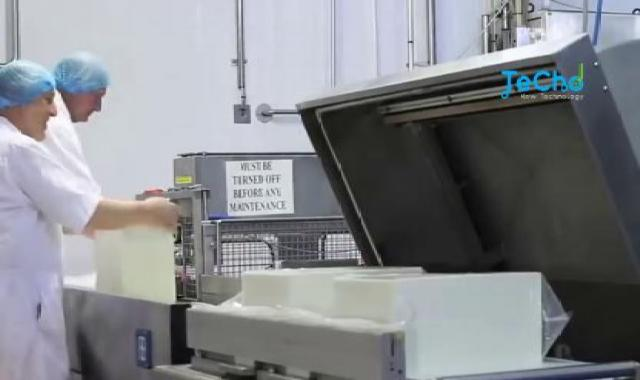hairnet: (54, 47, 126, 102)
